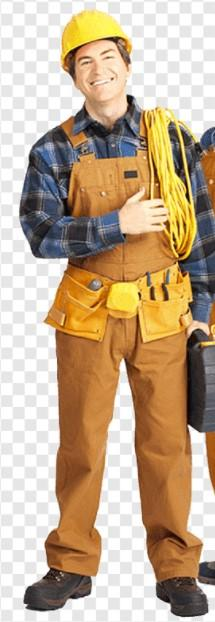hat: (34, 1, 151, 118)
no vest: (8, 113, 215, 338)
